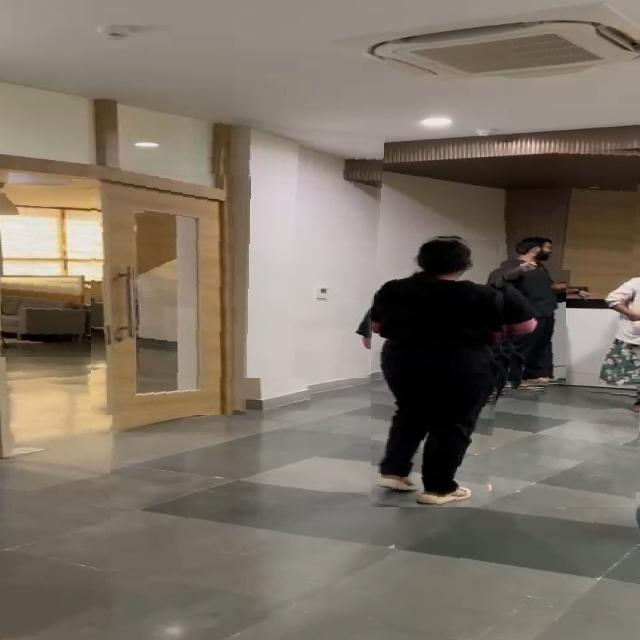door: (91, 164, 251, 416)
floor: (120, 492, 640, 639), (6, 367, 110, 640), (504, 387, 640, 507)
furniture: (0, 278, 113, 357)
moving_object: (371, 234, 509, 507), (496, 216, 566, 389)
wall: (206, 118, 385, 378), (552, 144, 640, 270)
